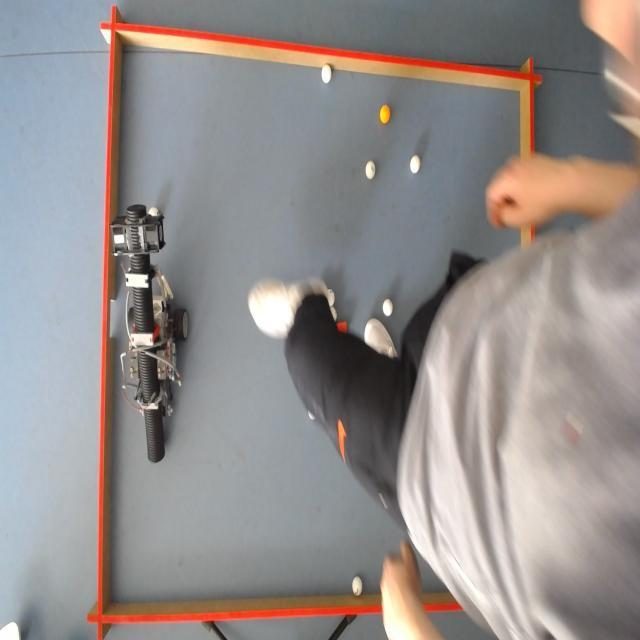orange: (378, 104, 392, 124)
robot: (114, 199, 184, 453)
white: (350, 575, 362, 596), (364, 160, 376, 179), (380, 298, 392, 316), (318, 63, 329, 82), (410, 154, 420, 174)
